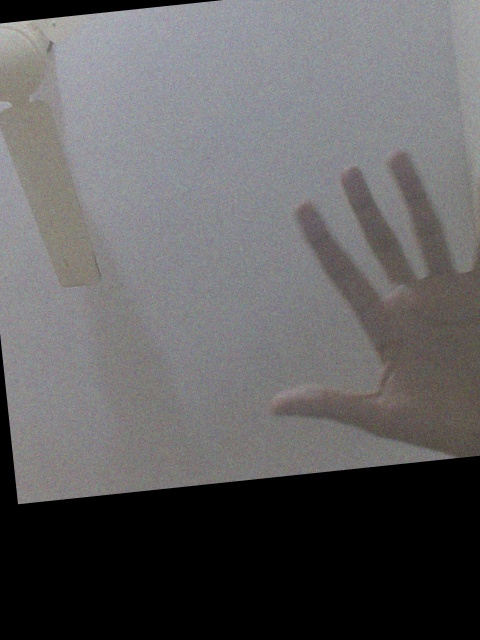hand: (259, 143, 480, 460)
